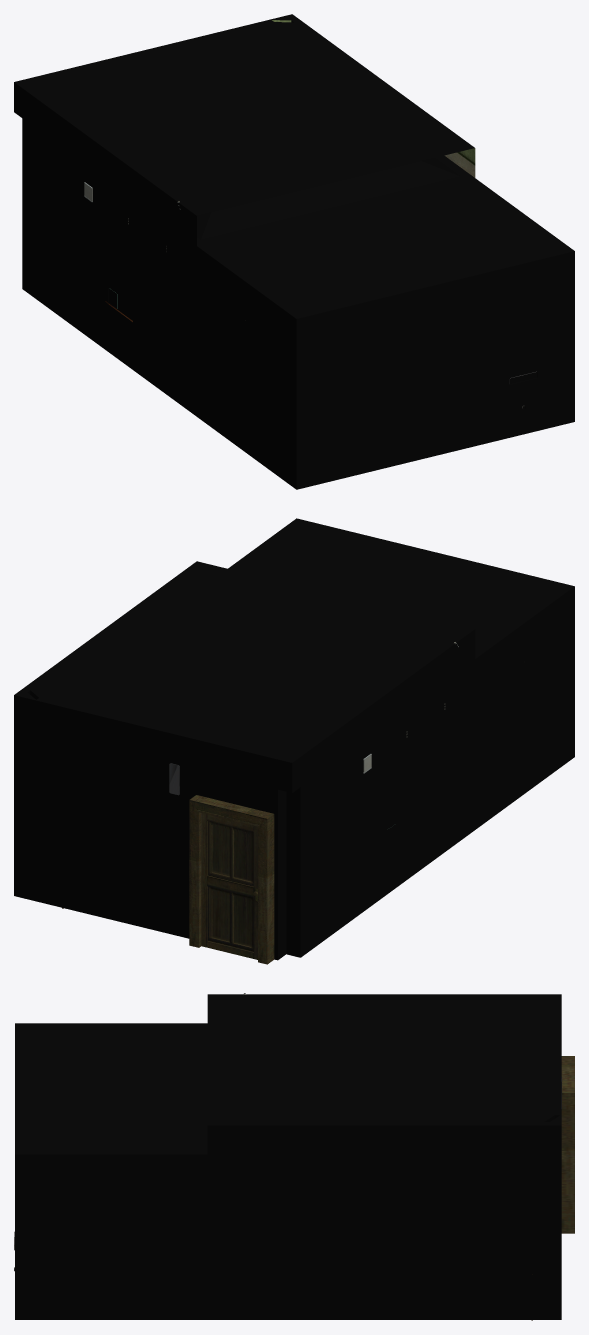
The model's file is Phong KTX.glb.
3 views of the same model, one above another, from view 1: azimuth 30°, elevation 25°; view 2: azimuth 150°, elevation 25°; view 3: azimuth 270°, elevation 25° (orthographic). The views are drawn at different scales.
Parts seen in each view (by area): view 1: Material2; view 2: Material2, Material3; view 3: Material2, Material3.
Part boxes in pixels (x1,y1,x2,y2): Material2: (14,14,574,489); Material2: (14,518,574,960); Material3: (189,795,274,964); Material2: (15,993,561,1319); Material3: (561,1056,574,1233).
Bounding box in the file's own units: 234 × 163 × 420.
Materials: 39 (39 with a texture image).
